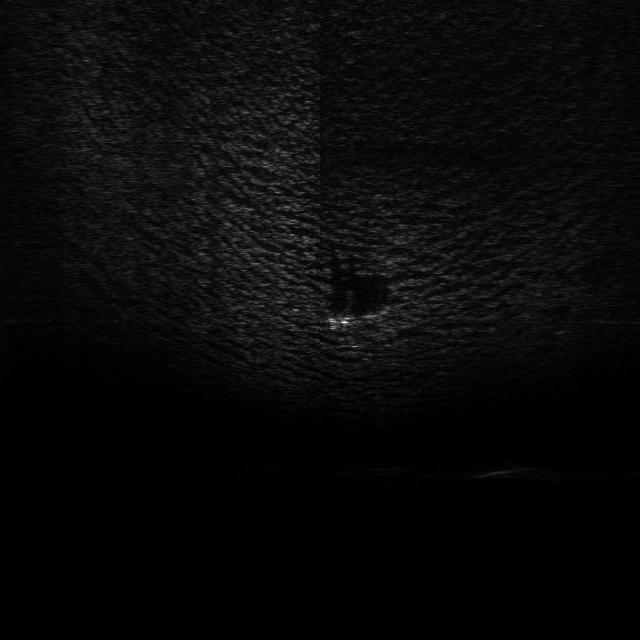plane: (326, 306, 396, 334)
